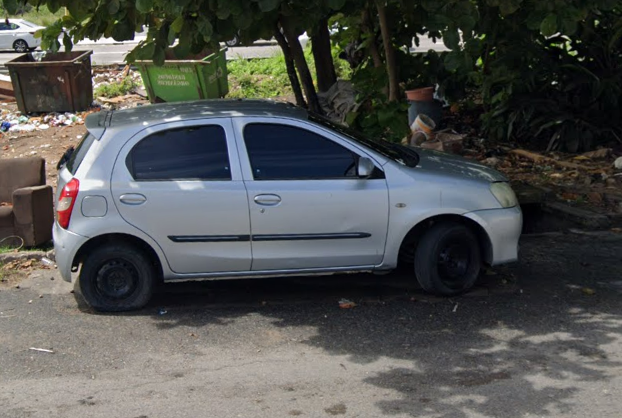car: (46, 99, 526, 315)
